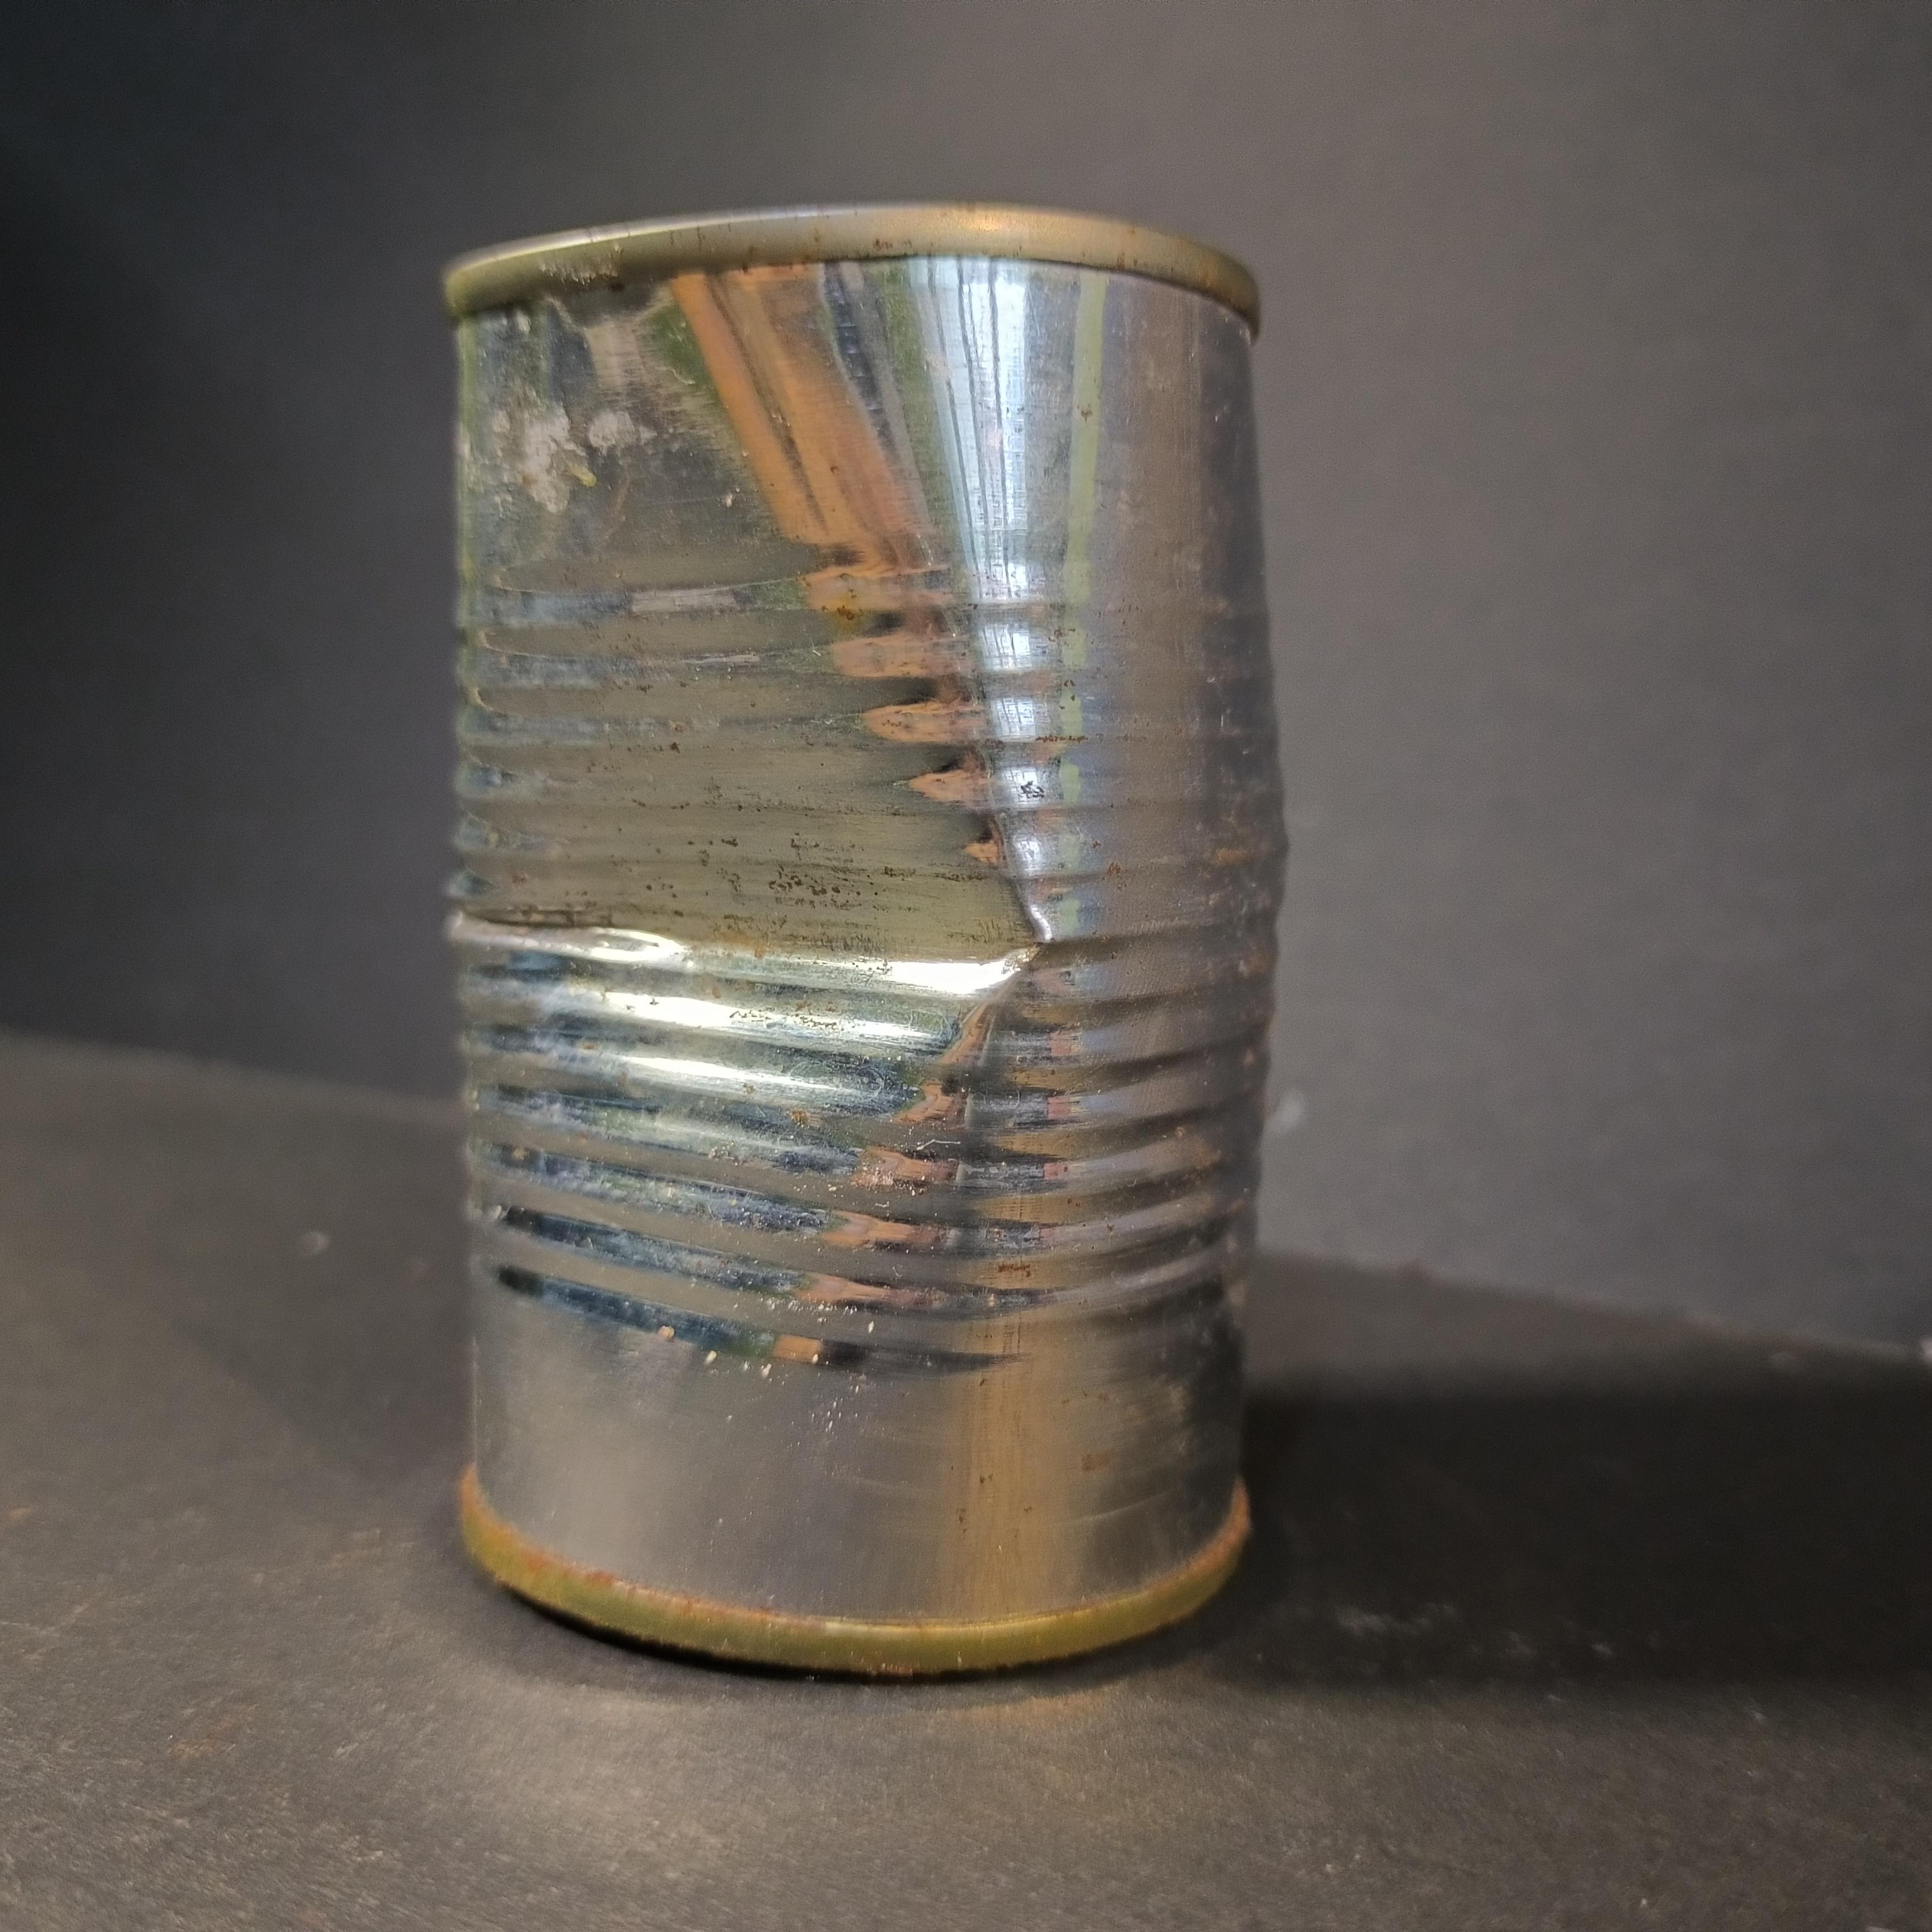Dented: (409, 161, 1336, 1706)
